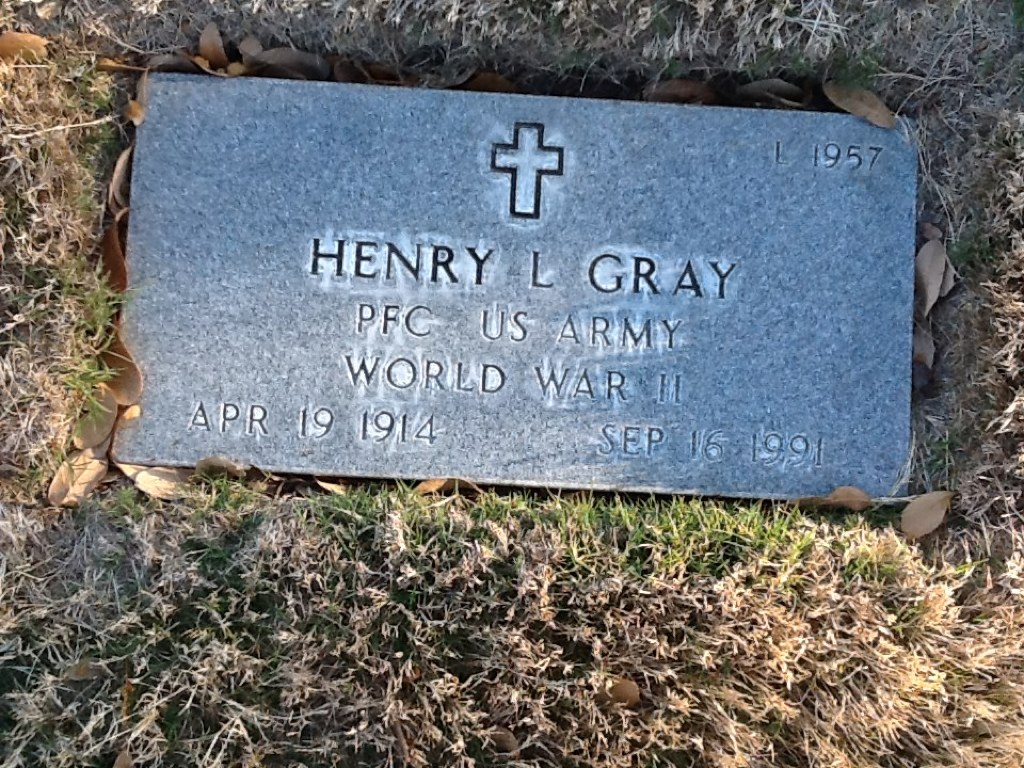flat: (109, 74, 927, 509)
